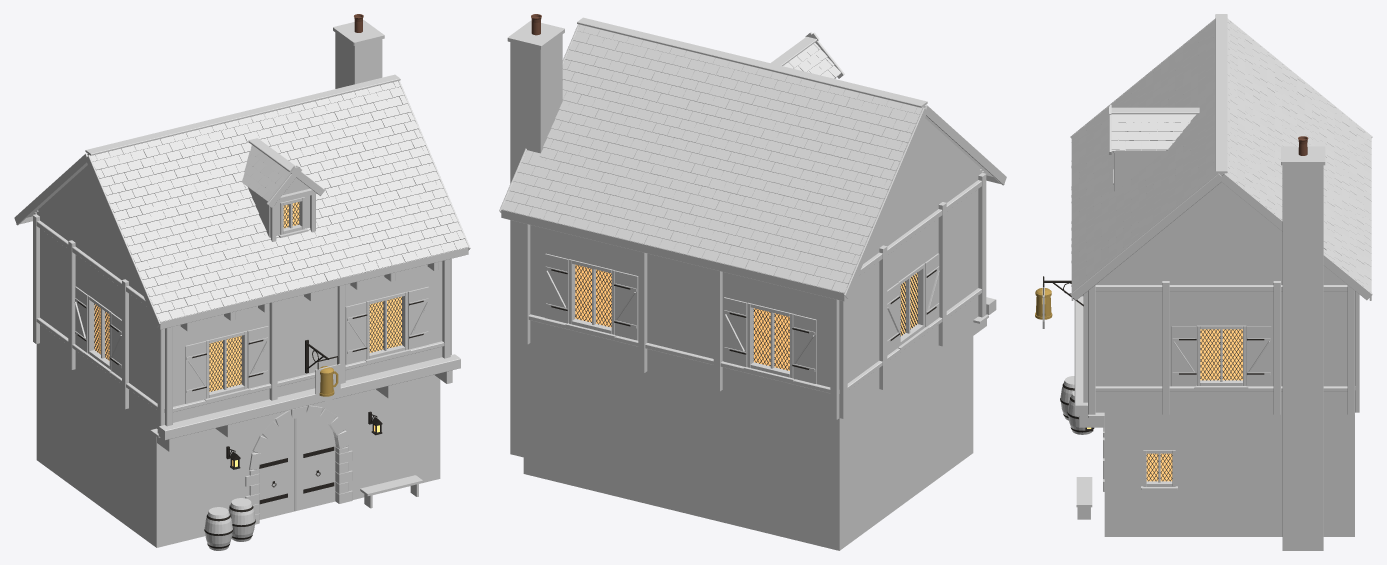
File: SilverbrookGildedTankard.glb
3 views of the same model, side by side, from view 1: azimuth 30°, elevation 25°; view 2: azimuth 150°, elevation 25°; view 3: azimuth 270°, elevation 25° (orthographic). The views are drawn at different scales.
Visible parts, largest first — view 1: SM_SBGildedTankard_Roof, SM_SBGildedTankard_Masonry, SM_SBGildedTankard_Plaster, SM_SBGildedTankard_Timber, SM_SBGildedTankard_Details, SM_SBGildedTankard_Details_Door1, SM_SBGildedTankard_Barrels, SM_SBGildedTankard_Bench; view 2: SM_SBGildedTankard_Roof, SM_SBGildedTankard_Masonry, SM_SBGildedTankard_Plaster, SM_SBGildedTankard_Timber, SM_SBGildedTankard_Details; view 3: SM_SBGildedTankard_Roof, SM_SBGildedTankard_Masonry, SM_SBGildedTankard_Plaster, SM_SBGildedTankard_Timber, SM_SBGildedTankard_Details, SM_SBGildedTankard_Barrels, SM_SBGildedTankard_Bench.
Part boxes in pixels (bbox=[...]): SM_SBGildedTankard_Roof: bbox=[27, 74, 468, 322]; SM_SBGildedTankard_Masonry: bbox=[36, 20, 440, 547]; SM_SBGildedTankard_Plaster: bbox=[36, 165, 442, 428]; SM_SBGildedTankard_Timber: bbox=[14, 80, 470, 451]; SM_SBGildedTankard_Details: bbox=[74, 14, 428, 469]; SM_SBGildedTankard_Details_Door1: bbox=[259, 416, 335, 519]; SM_SBGildedTankard_Barrels: bbox=[204, 498, 255, 550]; SM_SBGildedTankard_Bench: bbox=[360, 475, 422, 508]; SM_SBGildedTankard_Roof: bbox=[501, 17, 992, 292]; SM_SBGildedTankard_Masonry: bbox=[507, 20, 973, 550]; SM_SBGildedTankard_Plaster: bbox=[530, 118, 982, 417]; SM_SBGildedTankard_Timber: bbox=[499, 24, 1006, 419]; SM_SBGildedTankard_Details: bbox=[531, 14, 939, 383]; SM_SBGildedTankard_Roof: bbox=[1071, 14, 1371, 292]; SM_SBGildedTankard_Masonry: bbox=[1103, 146, 1354, 550]; SM_SBGildedTankard_Plaster: bbox=[1095, 151, 1347, 412]; SM_SBGildedTankard_Timber: bbox=[1070, 18, 1372, 489]; SM_SBGildedTankard_Details: bbox=[1035, 136, 1308, 481]; SM_SBGildedTankard_Barrels: bbox=[1060, 376, 1094, 434]; SM_SBGildedTankard_Bench: bbox=[1076, 477, 1092, 519].
Bounding box in the file's own units: 10.59 × 12.07 × 9.11.
